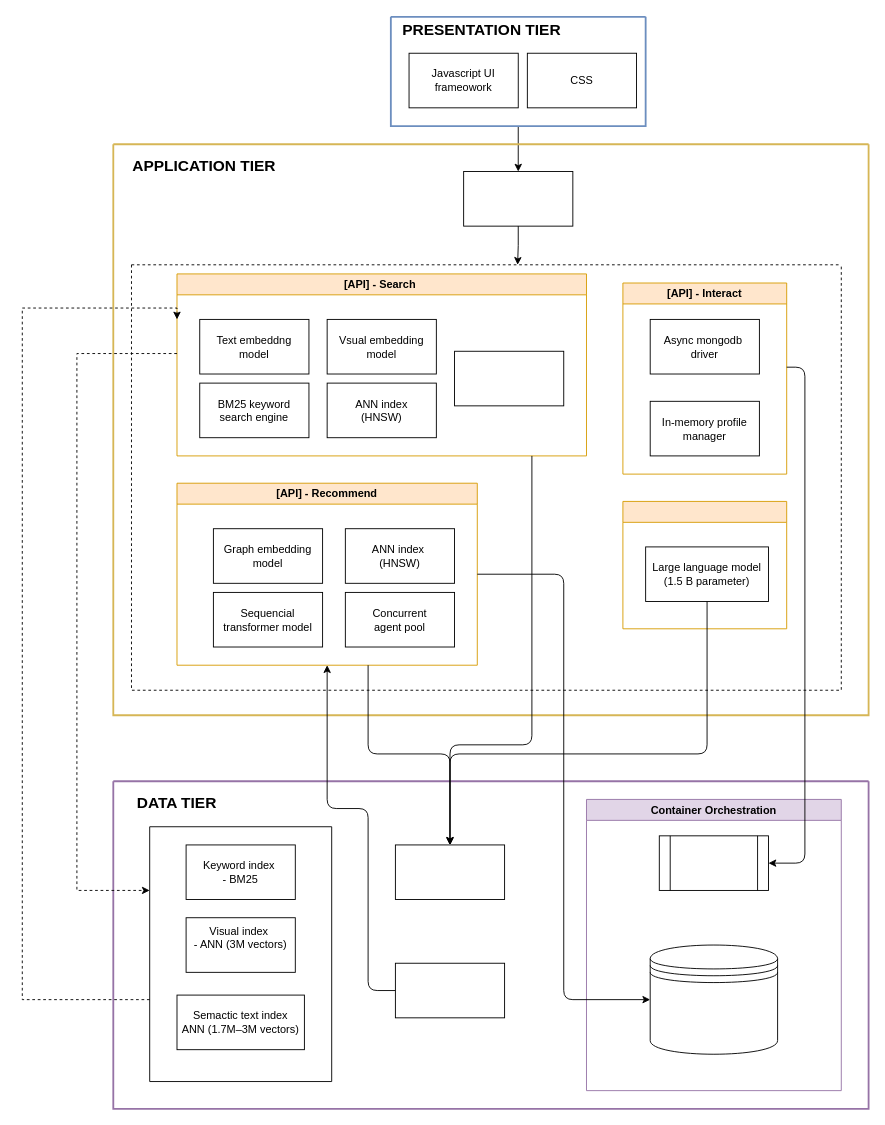
Some shapes in this 885 by 1125 pixel diagram are drawn without their labels. Here are the shapes that lost their labels. From the top down, the centre of each, then its label:
At point (518, 198): "REST API".
At point (509, 378): "Neural machine translation".
At point (704, 564): "[API] - LLM (Ask AI)".
At point (449, 872): "Columnar Store (Parquet)".
At point (713, 862): "Queue".
At point (449, 990): "Dense Vector Store (behavioral graph embeddings)".
At point (713, 999): "DATABASE".
